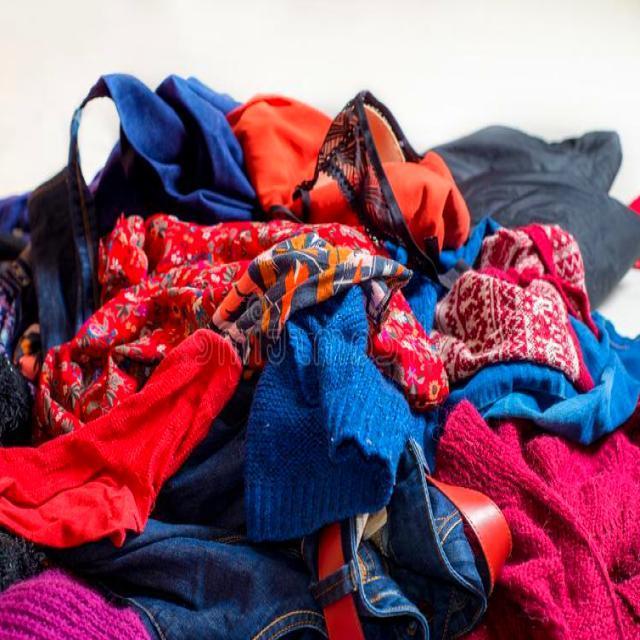clothes: (6, 186, 591, 640)
